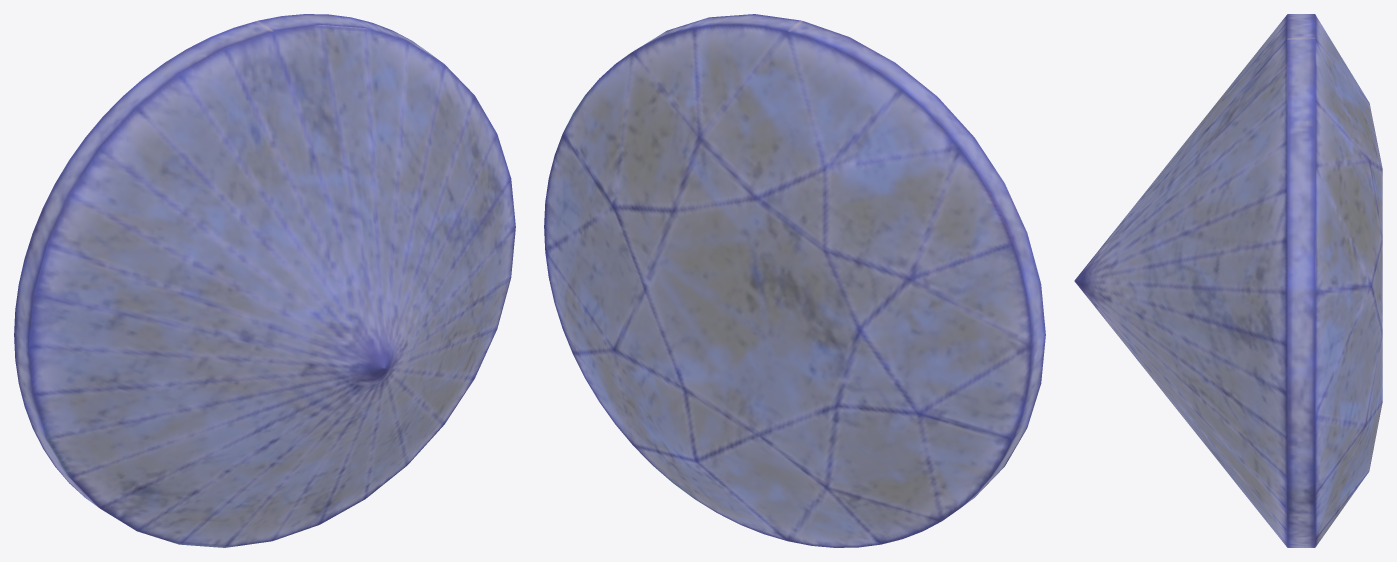
File: Round.glb
The picture shows the model from 3 angles, left to right: view 1: azimuth 30°, elevation 25°; view 2: azimuth 150°, elevation 25°; view 3: azimuth 270°, elevation 25°; orthographic projection. The views are drawn at different scales.
Visible parts, largest first — view 1: Plane.008_Diamond_Master_0; view 2: Plane.008_Diamond_Master_0; view 3: Plane.008_Diamond_Master_0.
Part boxes in pixels (<box>): Plane.008_Diamond_Master_0: <box>14,14,515,547</box>; Plane.008_Diamond_Master_0: <box>544,14,1045,547</box>; Plane.008_Diamond_Master_0: <box>1074,14,1382,547</box>.
Bounding box in the file's own units: 1.12 × 1.12 × 0.6483.
1 material, 1 textured.
